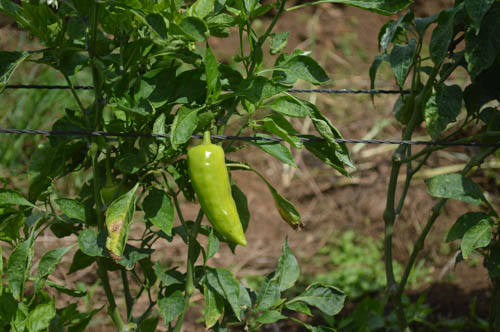ChiliPepper: (190, 145, 246, 246)
